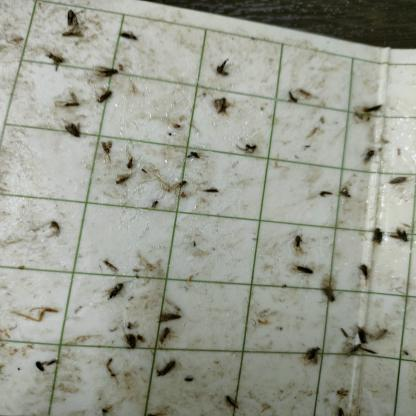prays_oleae: (152, 356, 180, 384), (286, 258, 314, 286), (212, 54, 234, 86), (357, 92, 383, 119), (156, 300, 182, 326), (103, 280, 127, 308), (299, 345, 321, 374), (56, 90, 83, 113), (390, 219, 411, 248), (115, 27, 142, 48), (93, 59, 118, 81), (383, 173, 408, 194), (47, 47, 69, 70), (339, 175, 357, 202), (95, 87, 114, 112), (322, 285, 340, 311), (353, 264, 374, 286), (98, 138, 116, 162), (32, 358, 50, 382), (369, 221, 387, 245), (354, 323, 370, 349), (156, 326, 175, 347), (364, 143, 380, 167), (371, 323, 388, 345), (346, 340, 362, 363), (290, 232, 305, 256), (241, 138, 259, 158), (61, 122, 82, 138), (101, 252, 119, 270), (111, 173, 130, 190)
